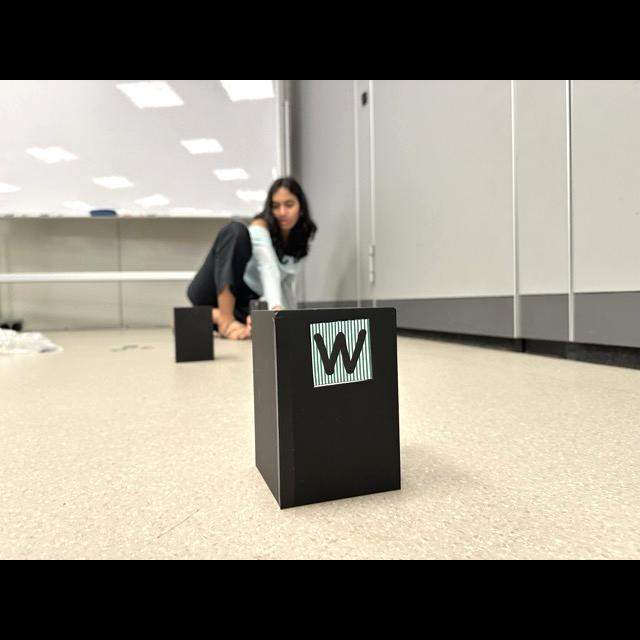W: (314, 329, 366, 375)
